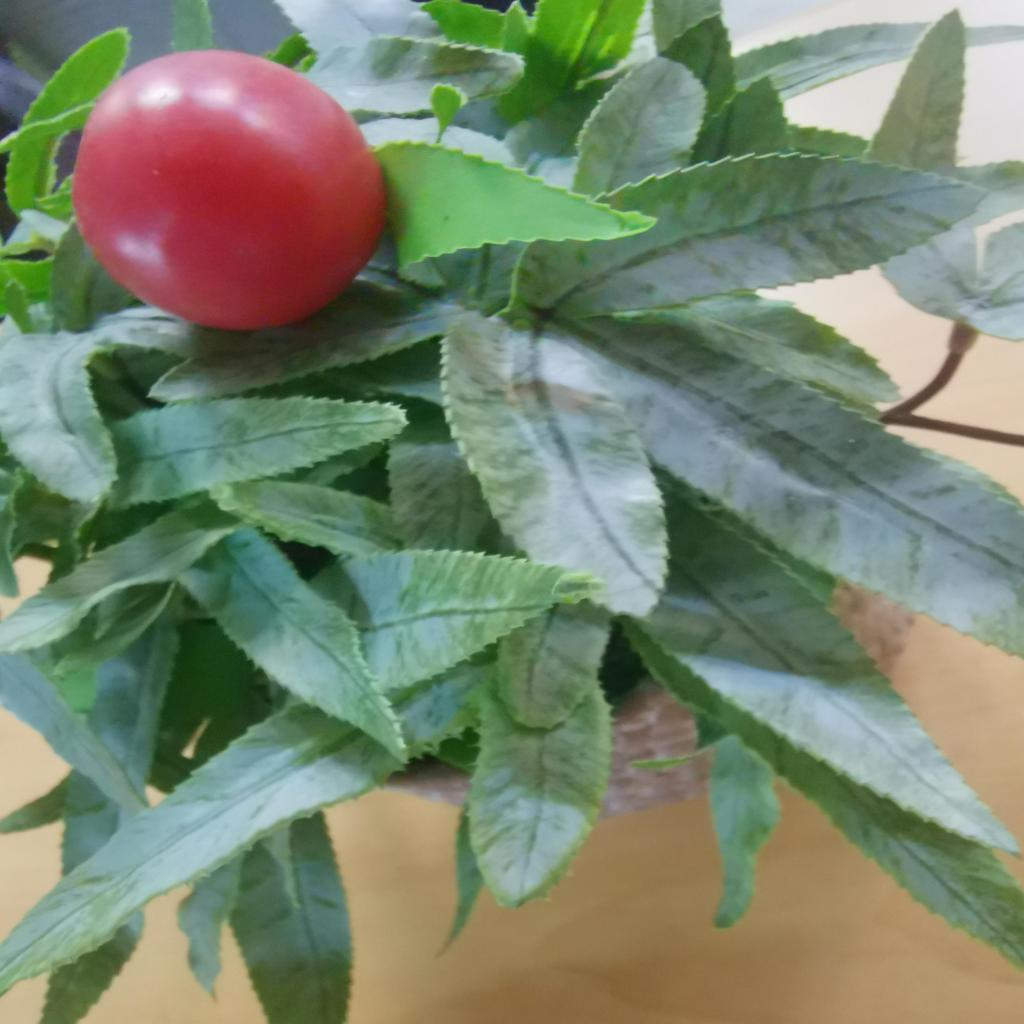tomato: (73, 62, 398, 321)
